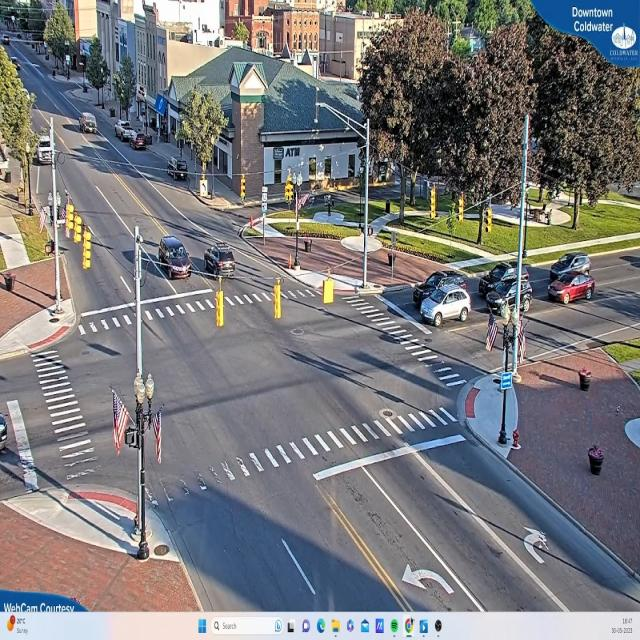car: (420, 288, 472, 327), (154, 235, 194, 282), (414, 266, 468, 300), (481, 255, 528, 292), (486, 278, 532, 312), (550, 271, 596, 304), (549, 248, 594, 281), (204, 242, 236, 281), (35, 144, 53, 166), (117, 122, 135, 142), (80, 114, 98, 133), (132, 134, 149, 150)
